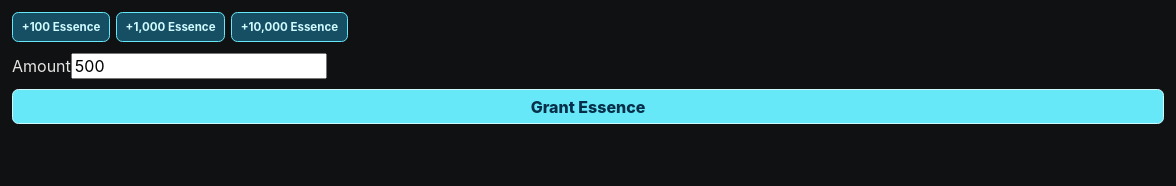
Test: DevelopmentEssenceGrant › shows the server's refusal
The width and height of the screenshot is (1176, 186).
Click the button "+100 Essence" at (61, 27), box [12,12,110,42]
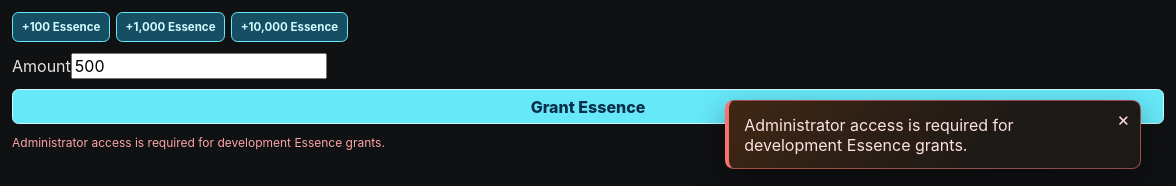
Result: the message "Administrator access is required for development Essence grants." is shown at [12,135,385,150]
